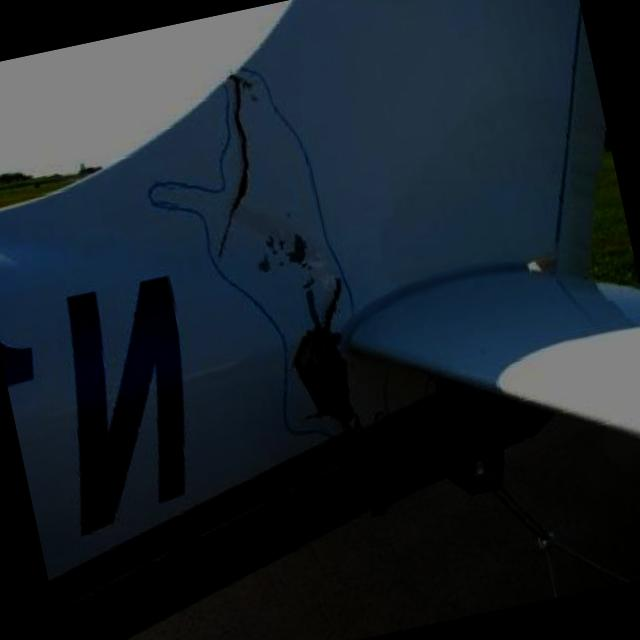crack: (182, 84, 294, 255)
